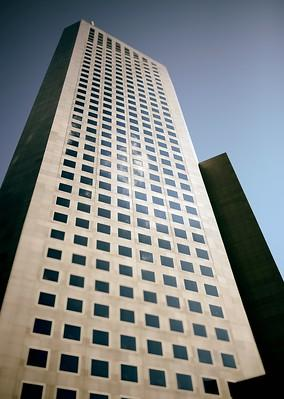building: (0, 15, 267, 398)
